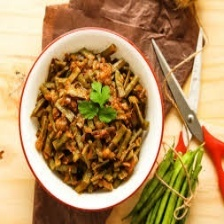sabzi: (30, 46, 149, 193)
